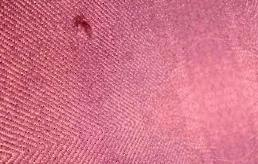knot: (73, 10, 102, 50)
